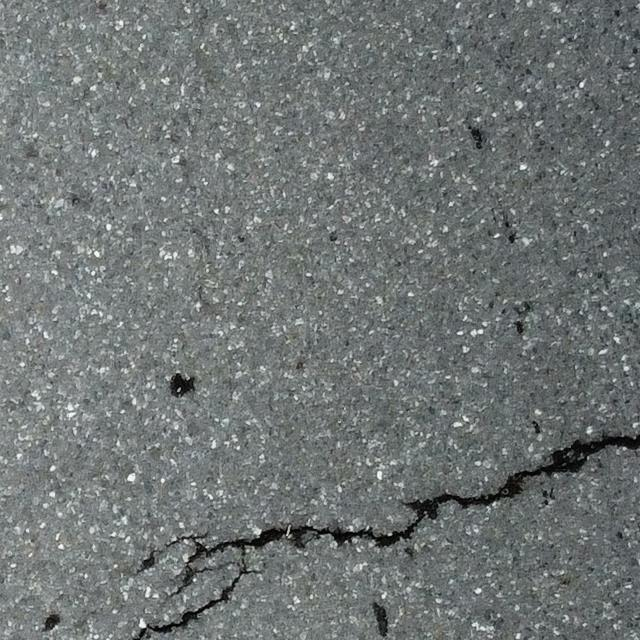TransverseCrack: (137, 434, 640, 636)
